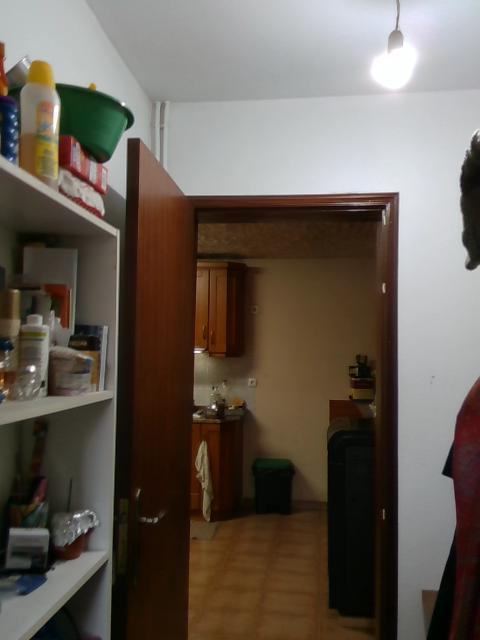open_door: (180, 191, 397, 639)
